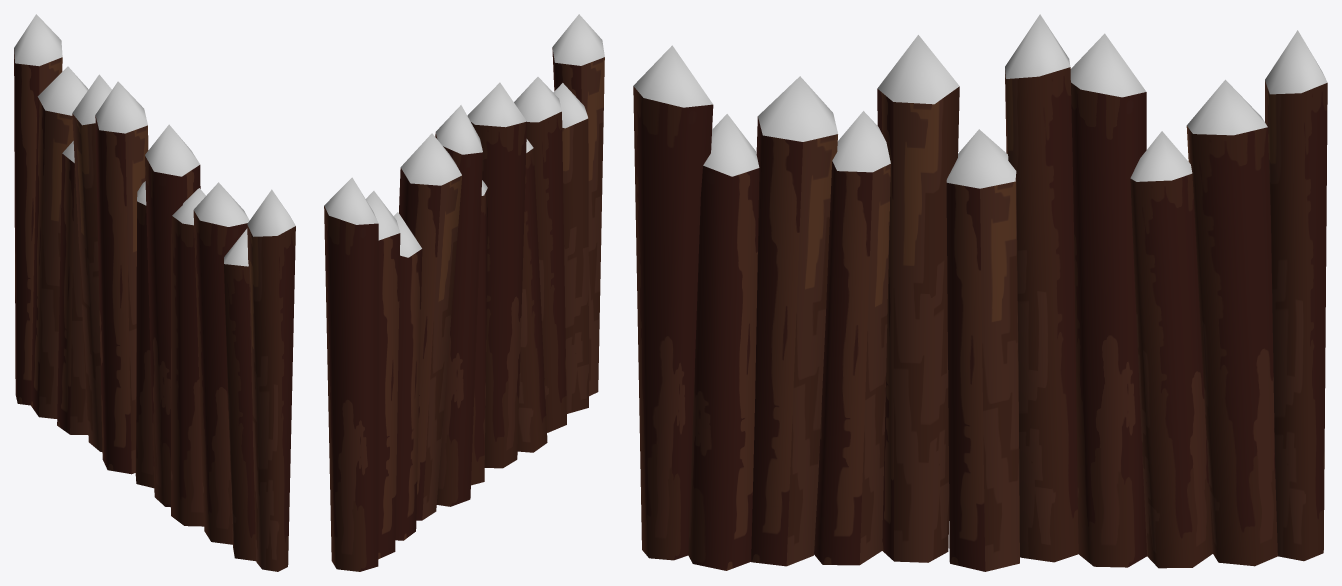
File: SM_PROP_wall_wood_post_04.fbx
3 renders of one model, left to right at view 1: azimuth 30°, elevation 25°; view 2: azimuth 150°, elevation 25°; view 3: azimuth 270°, elevation 25°, orthographic. The views are drawn at different scales.
Visible parts, largest first — view 1: SM_PROP_wall_wood_post_04; view 2: SM_PROP_wall_wood_post_04; view 3: SM_PROP_wall_wood_post_04.
Boxes of the visible parts, x1,y1,x2,y2 form: SM_PROP_wall_wood_post_04: (14,14,295,571); SM_PROP_wall_wood_post_04: (324,14,604,571); SM_PROP_wall_wood_post_04: (633,14,1327,571).
Size of the model in its own units: 89.18 by 491 by 586.
